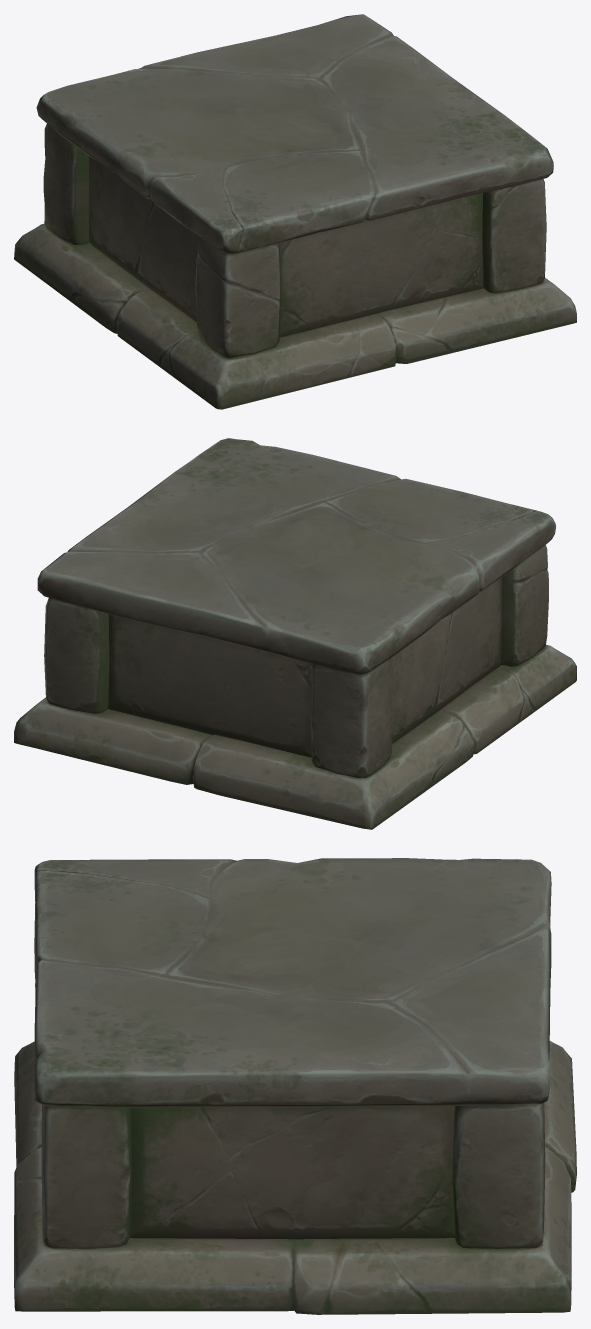
Rendered from MSH_fwOF_Pedestal_01.fbx.
3 views of the same model, one above another, from view 1: azimuth 30°, elevation 25°; view 2: azimuth 150°, elevation 25°; view 3: azimuth 270°, elevation 25° (orthographic). The views are drawn at different scales.
Visible parts, largest first — view 1: MSH_fwOF_Pedestal_01_LOD0; view 2: MSH_fwOF_Pedestal_01_LOD0; view 3: MSH_fwOF_Pedestal_01_LOD0.
Part boxes in pixels (left/top/right/bottom): MSH_fwOF_Pedestal_01_LOD0: left=14, top=14, right=576, bottom=409; MSH_fwOF_Pedestal_01_LOD0: left=14, top=438, right=576, bottom=829; MSH_fwOF_Pedestal_01_LOD0: left=14, top=858, right=576, bottom=1314.
Size of what is drawn, in the model's own units: 1.82 by 0.819 by 1.8.
